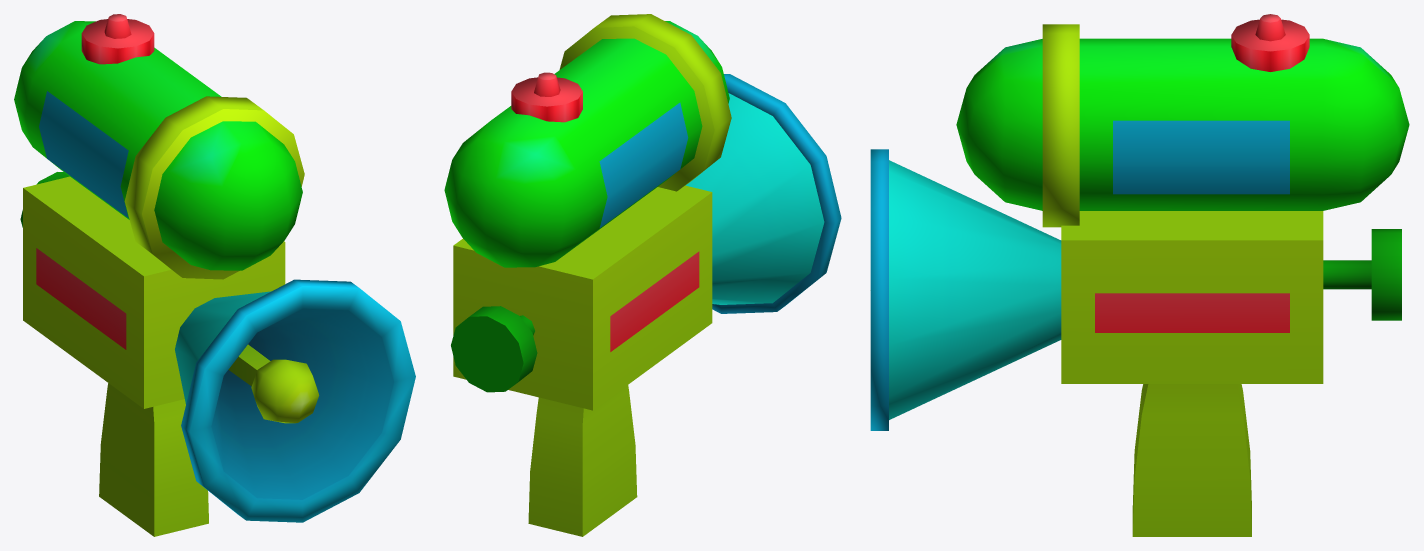
File: weaponsMusical.fbx
3 views of the same model, side by side, from view 1: azimuth 30°, elevation 25°; view 2: azimuth 150°, elevation 25°; view 3: azimuth 270°, elevation 25° (orthographic). The views are drawn at different scales.
Parts seen in each view (by area): view 1: weaponsMusical; view 2: weaponsMusical; view 3: weaponsMusical.
Part boxes in pixels (bbox=[...]): weaponsMusical: bbox=[14, 14, 415, 536]; weaponsMusical: bbox=[444, 14, 841, 536]; weaponsMusical: bbox=[870, 14, 1409, 536].
Bounding box in the file's own units: 9.38 × 18.45 × 17.88.
